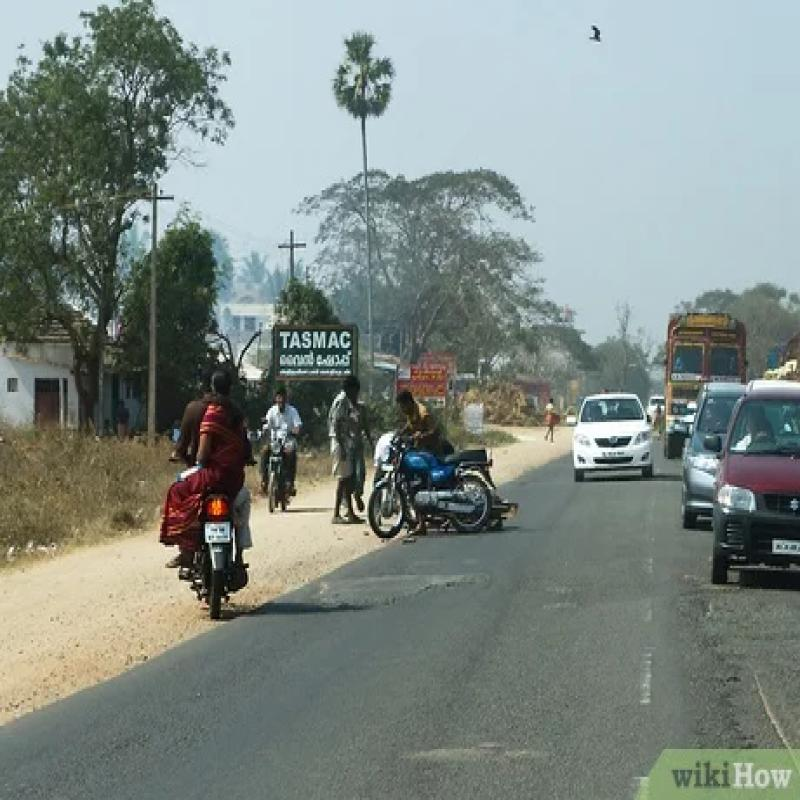car: (722, 382, 800, 557), (565, 386, 651, 494), (686, 386, 750, 520)
